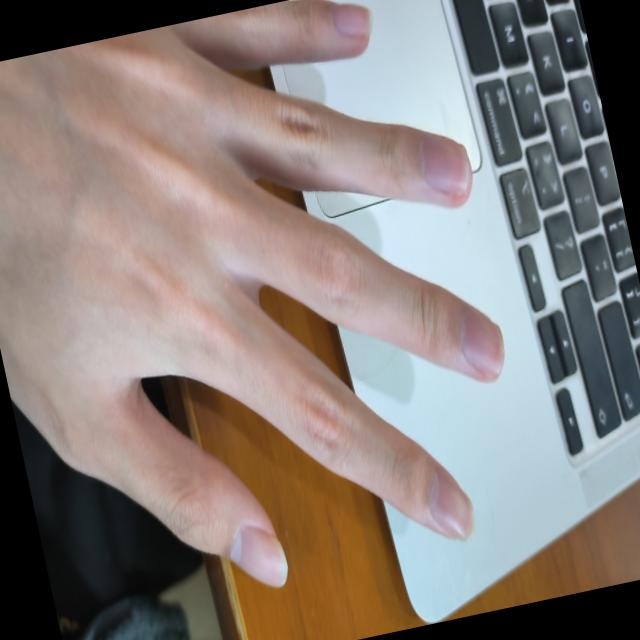Nail: (230, 525, 286, 587), (429, 472, 473, 542), (418, 137, 468, 198), (459, 311, 503, 376), (331, 4, 371, 37)
